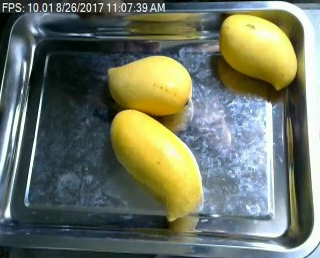Mango: (107, 107, 206, 226), (214, 13, 303, 94), (104, 51, 199, 114)
